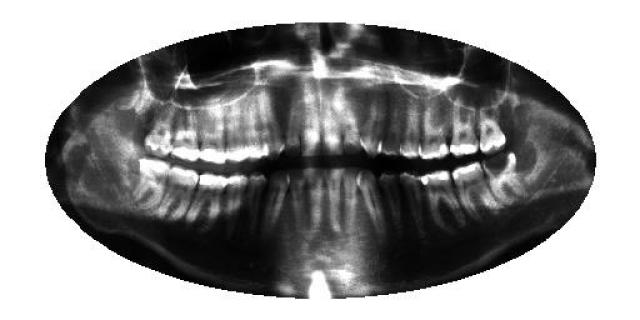Cavity: (480, 150, 528, 206)
Fillings: (419, 168, 469, 232), (452, 162, 502, 222)
